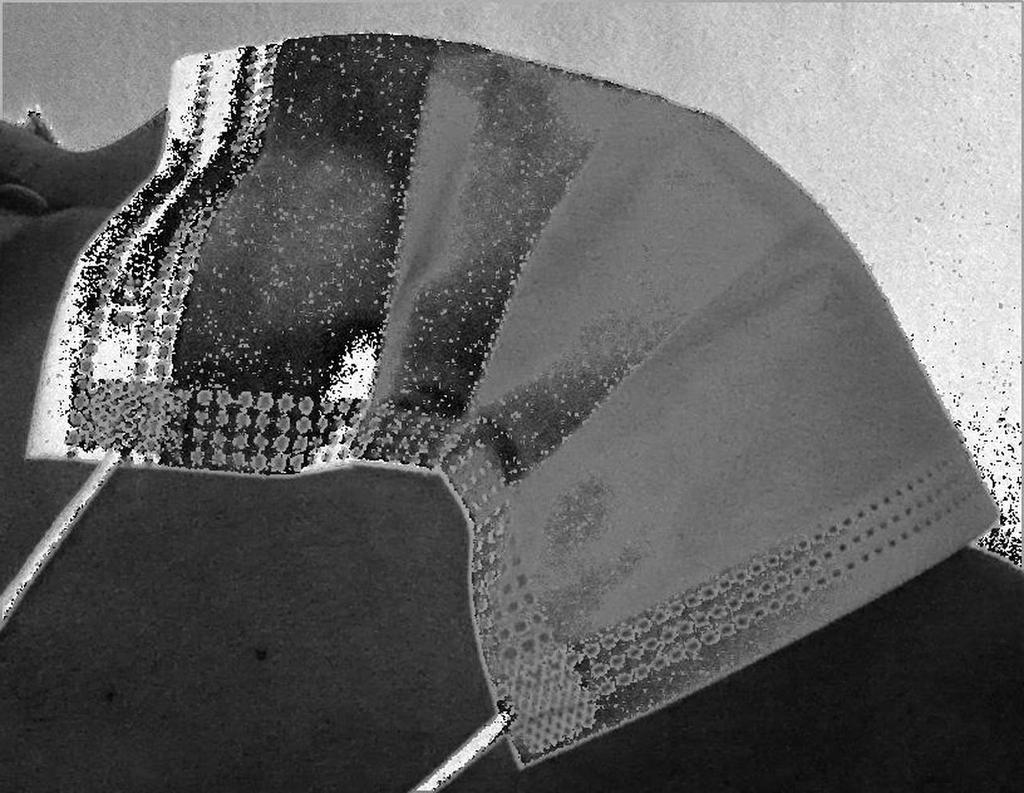Low GSM: (27, 29, 1002, 776)
